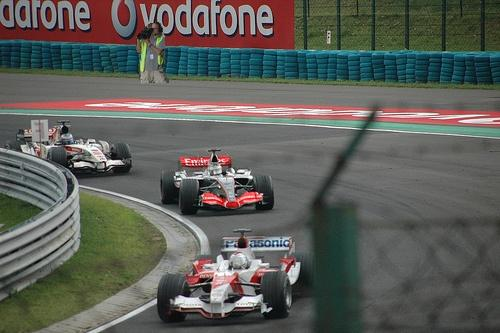tampered: (137, 23, 169, 84)
